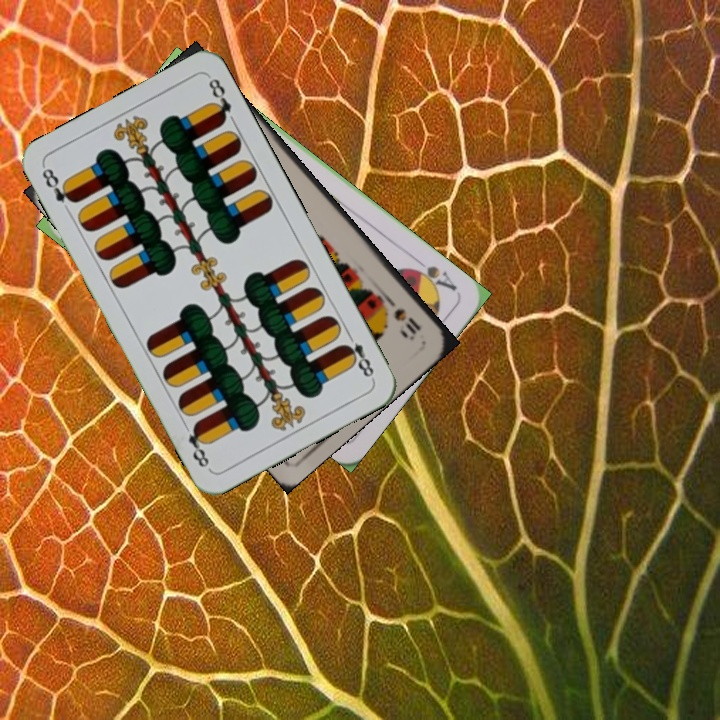E8: (338, 328, 377, 383), (37, 164, 79, 206)
S10: (382, 293, 424, 341)
SA: (404, 261, 460, 295)
